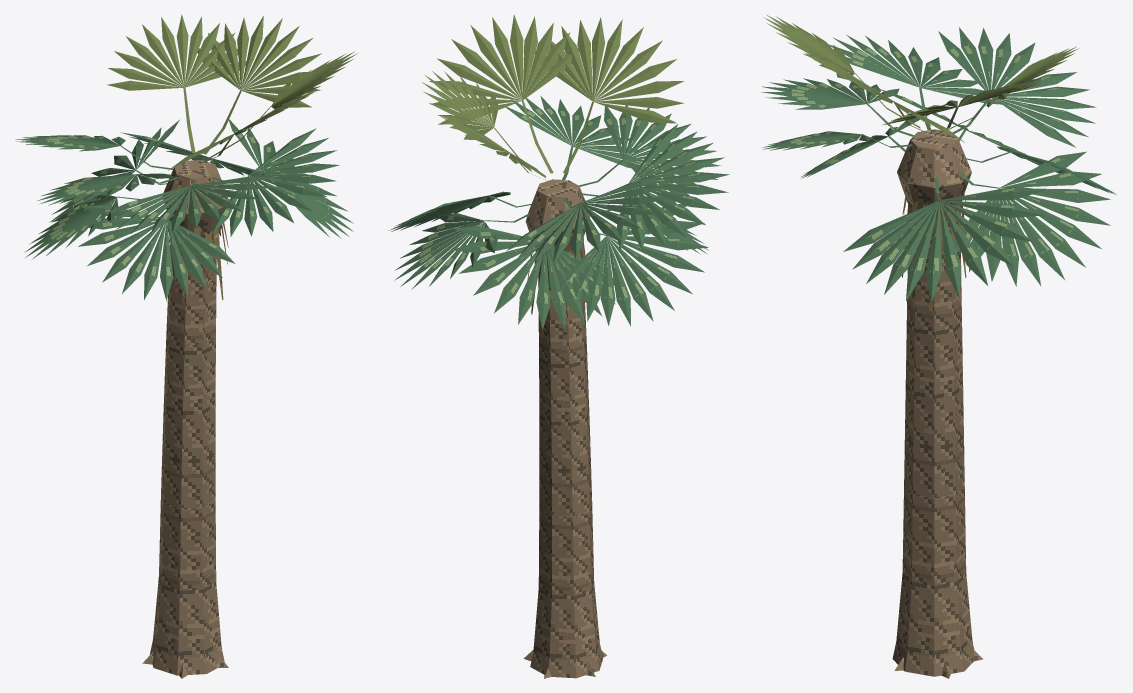
The model's file is california-fan.glb.
3 renders of one model, left to right at view 1: azimuth 30°, elevation 25°; view 2: azimuth 150°, elevation 25°; view 3: azimuth 270°, elevation 25°, orthographic. The views are drawn at different scales.
Visible parts, largest first — view 1: crown_california-fan, trunk_california-fan; view 2: crown_california-fan, trunk_california-fan; view 3: crown_california-fan, trunk_california-fan.
Part boxes in pixels (left/top/right/bottom): crown_california-fan: left=15, top=14, right=357, bottom=300; trunk_california-fan: left=142, top=160, right=228, bottom=678; crown_california-fan: left=388, top=14, right=729, bottom=330; trunk_california-fan: left=523, top=179, right=606, bottom=678; crown_california-fan: left=761, top=15, right=1115, bottom=302; trunk_california-fan: left=892, top=129, right=983, bottom=678.
Size of the model in its own units: 6.85 by 12.73 by 6.37.
2 materials, 2 textured.
